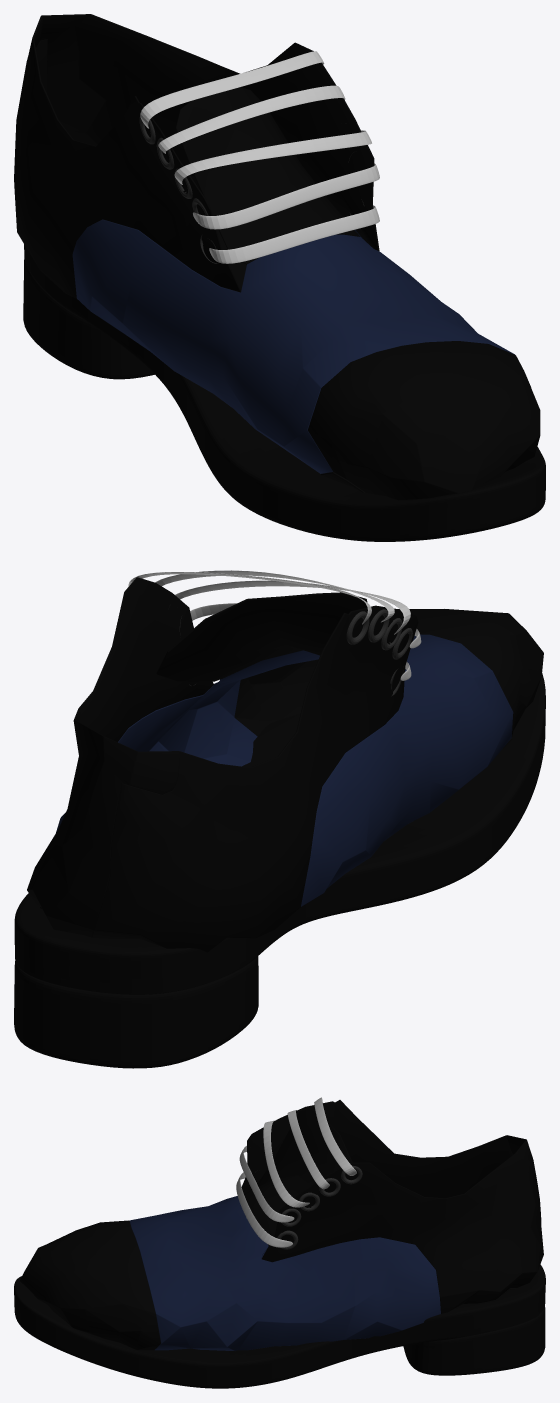
Rendered from za1in3izquierda.fbx.
3 renders of one model, top to bottom at view 1: azimuth 30°, elevation 25°; view 2: azimuth 150°, elevation 25°; view 3: azimuth 270°, elevation 25°, orthographic. The views are drawn at different scales.
Parts seen in each view (by area): view 1: ZAPATO1_3, Plane, Plane.002, Plane.004, Plane.005, Plane.001, Plane.003; view 2: ZAPATO1_3, Plane, Plane.001, Plane.003, Plane.004; view 3: ZAPATO1_3, Plane, Plane.001, Plane.004, Plane.003, Plane.005, Plane.002.
Part boxes in pixels (x1,y1,x2,y2): ZAPATO1_3: (14,14,540,500); Plane: (23,229,545,541); Plane.002: (193,163,379,229); Plane.004: (140,51,324,128); Plane.005: (209,205,379,263); Plane.001: (174,130,371,184); Plane.003: (158,85,345,153); ZAPATO1_3: (27,577,543,952); Plane: (14,673,545,1068); Plane.001: (175,580,410,634); Plane.003: (155,570,394,622); Plane.004: (128,572,371,624); ZAPATO1_3: (20,1100,543,1350); Plane: (14,1264,545,1388); Plane.001: (263,1120,309,1207); Plane.004: (314,1097,356,1175); Plane.003: (287,1110,329,1189); Plane.005: (236,1172,292,1247); Plane.002: (239,1145,294,1222).
Bounding box in the file's own units: 174 × 204 × 447.
